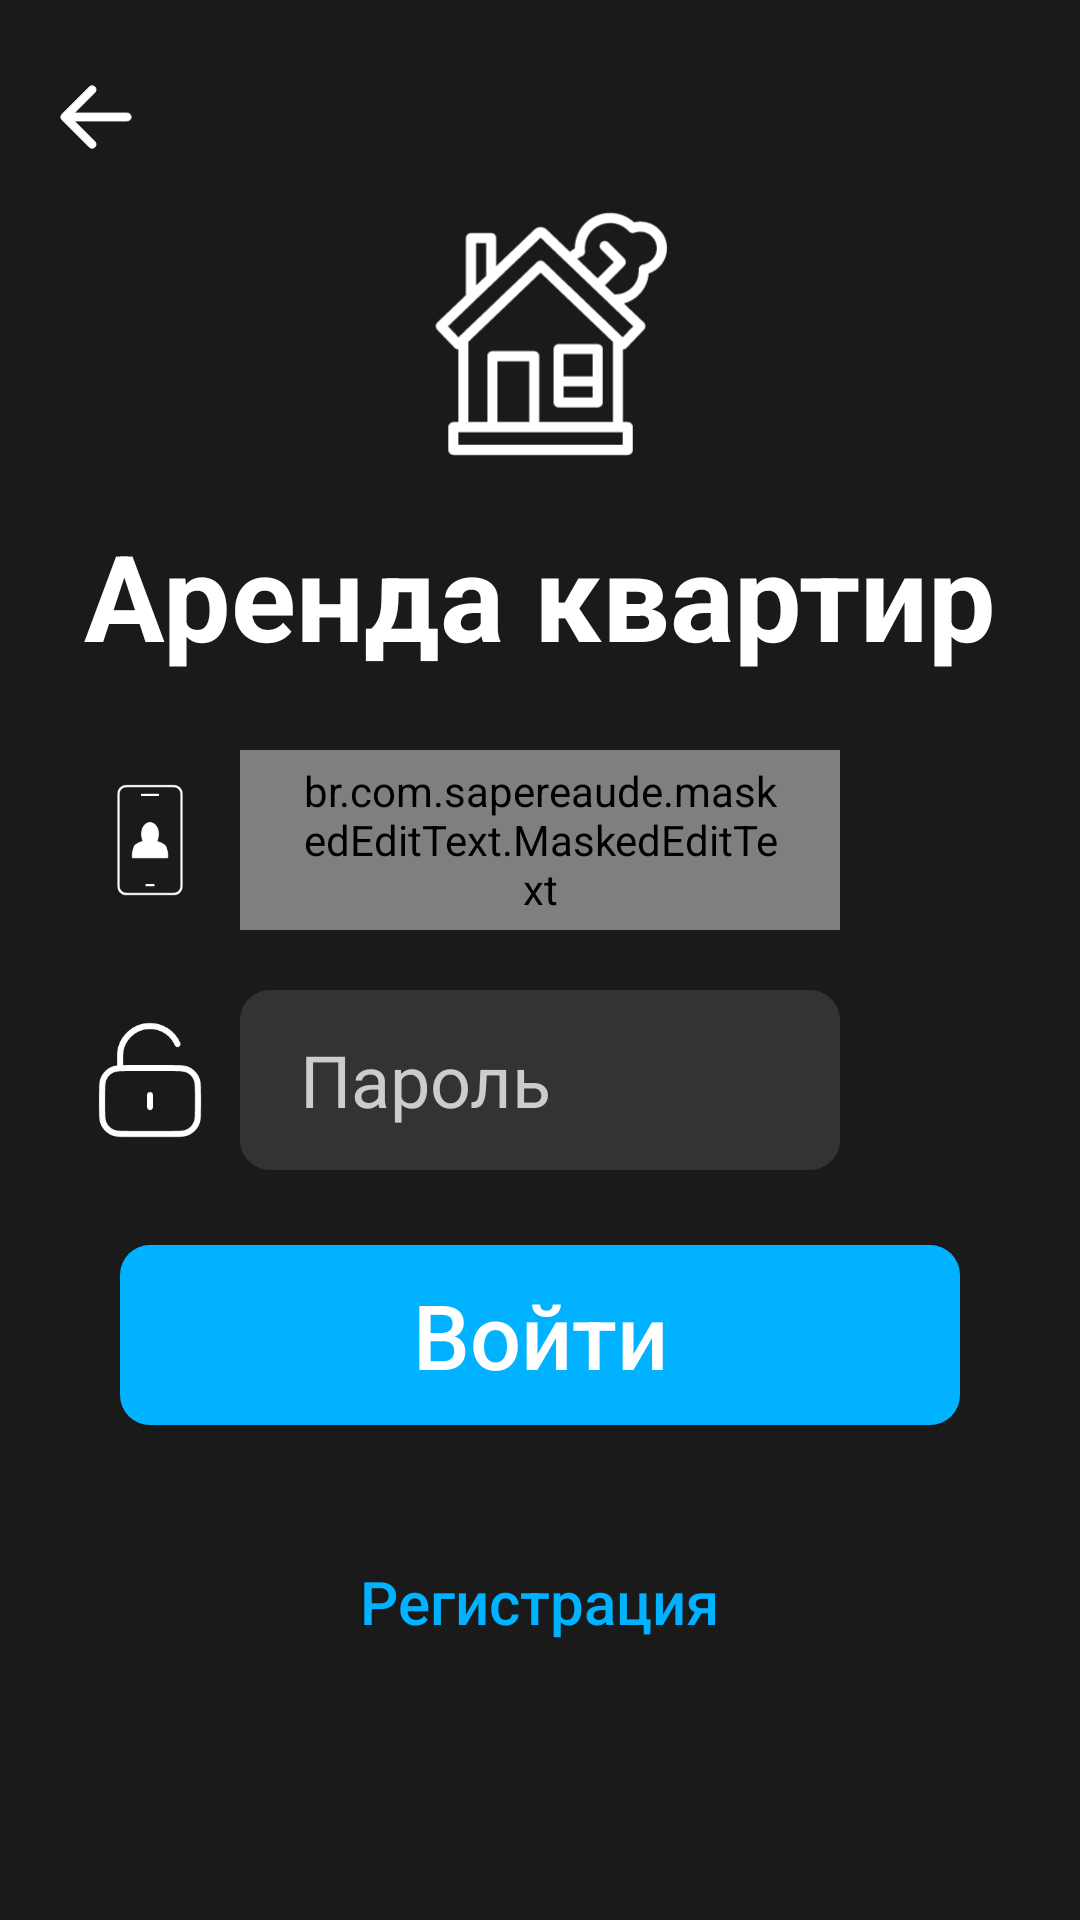

Named icons in this screenshot (1080px×1920px) and their centers, (x,y):
Номер телефона: (150,840)
